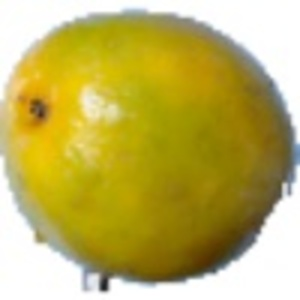maracujá: (1, 6, 300, 291)
